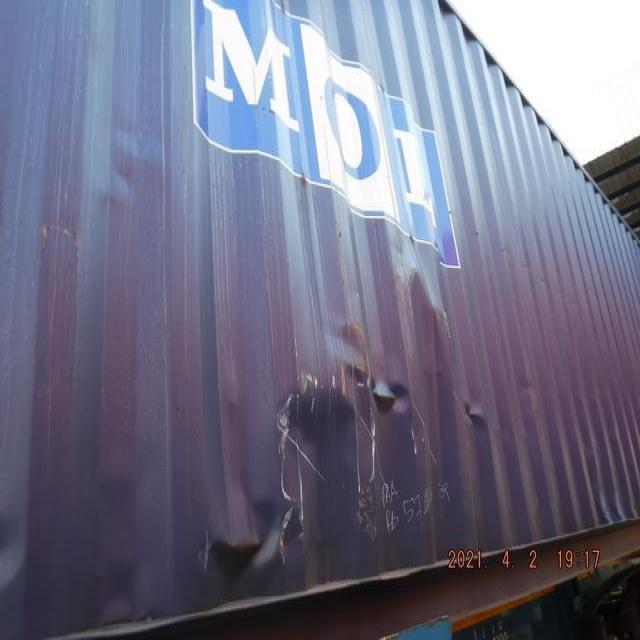dent: (168, 224, 506, 604)
